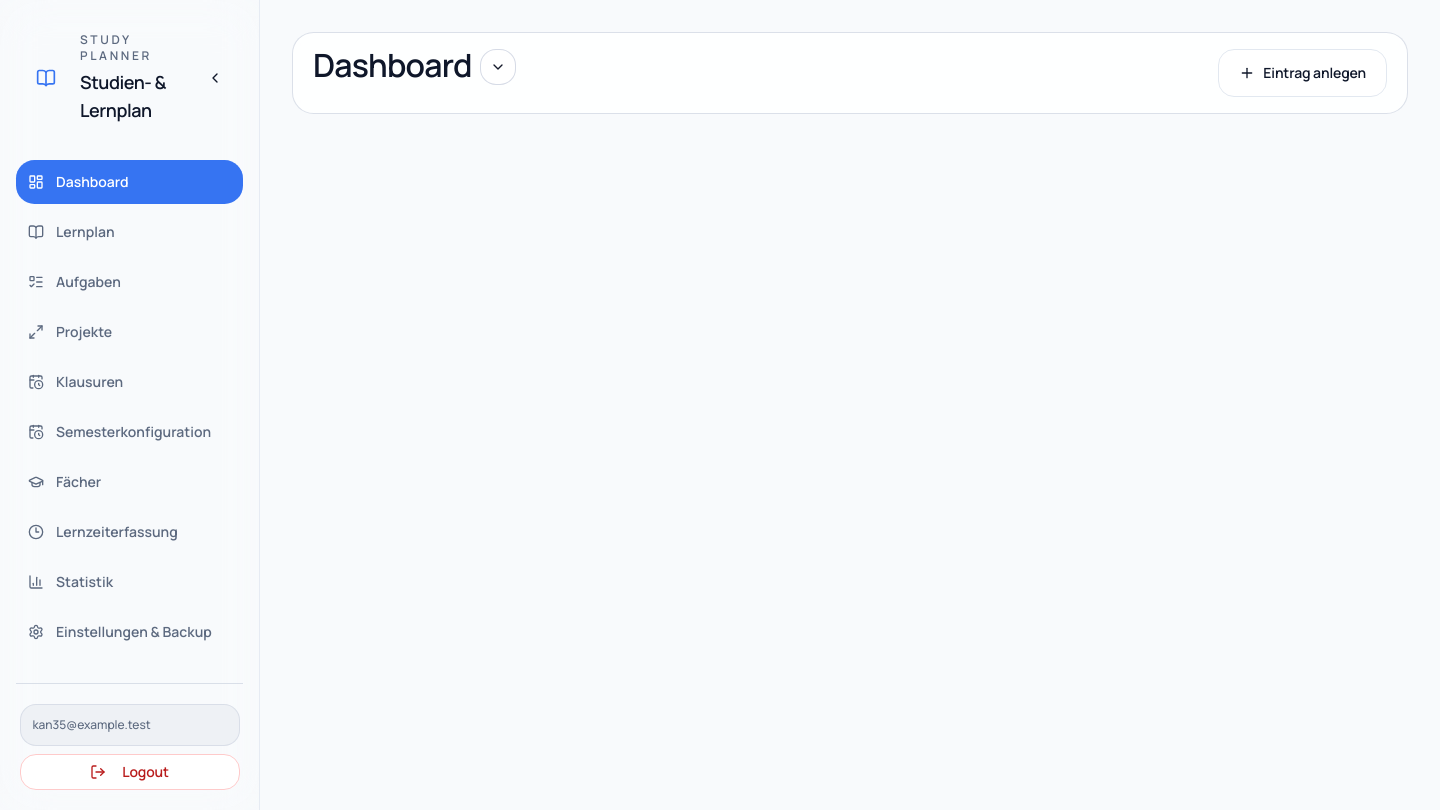
Semesterwechsel › behält das aktive Semester bei, solange ein Timer läuft
Click the button "Semesterkonfiguration" at (130, 432), box [16,410,243,454]
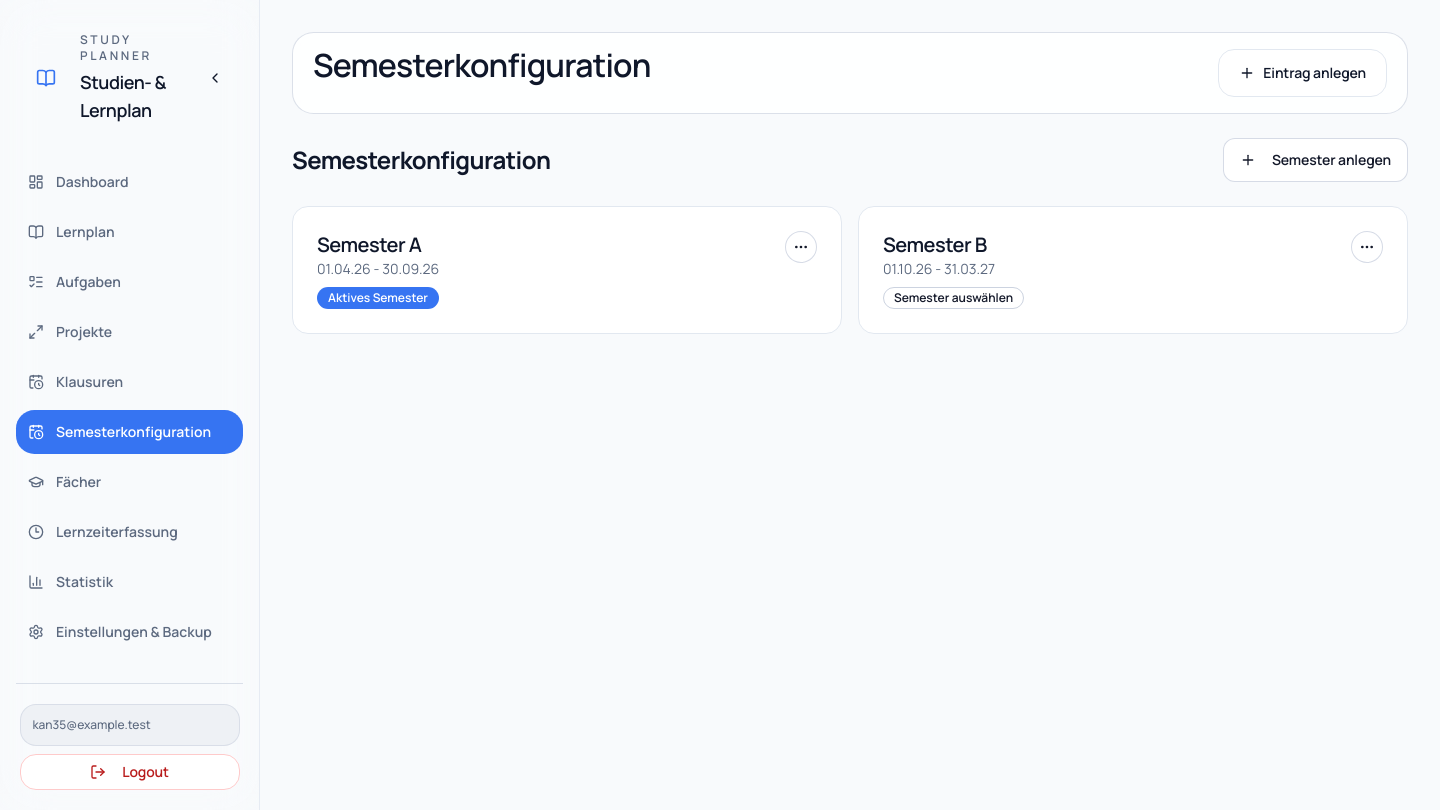
Click the button "Semester B 01.10.26 - 31.03.27 Semester auswählen" at (954, 270), box [883,231,1024,309]
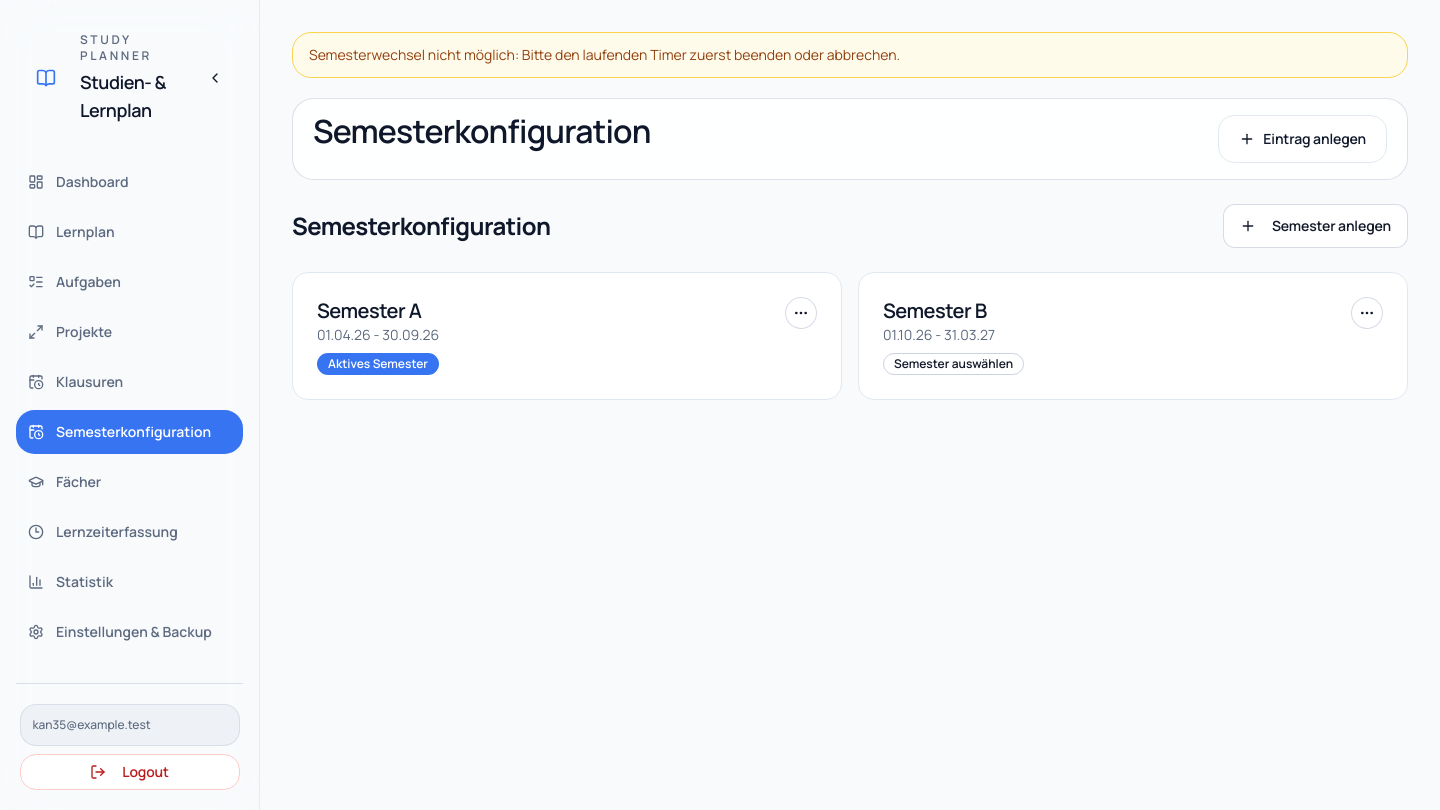
Now the text "Aktives Semester" is shown, box [317,353,439,375]
Now the text "Semester auswählen" is shown, box [883,353,1024,375]
Now the text "Semesterwechsel nicht möglich: Bitte den laufenden Timer zuerst beenden oder abbrechen." is shown, box [309,45,900,64]
